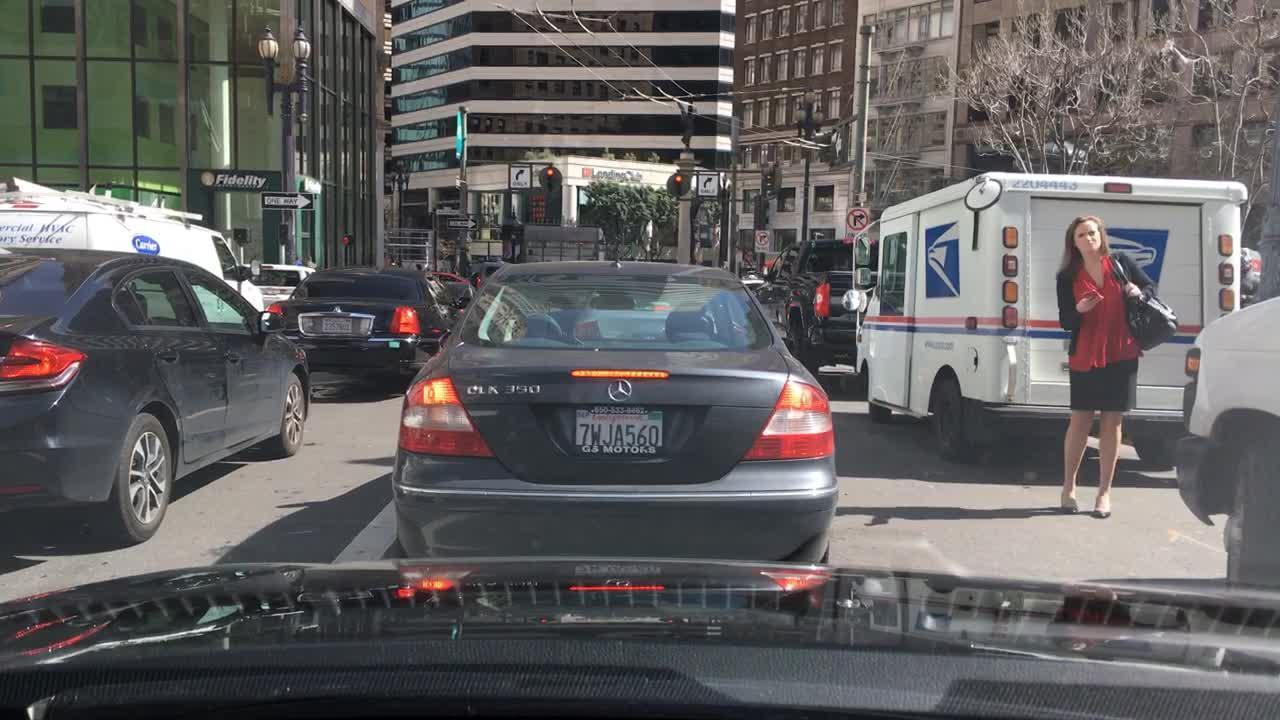Mercedes: (598, 368, 653, 417)
